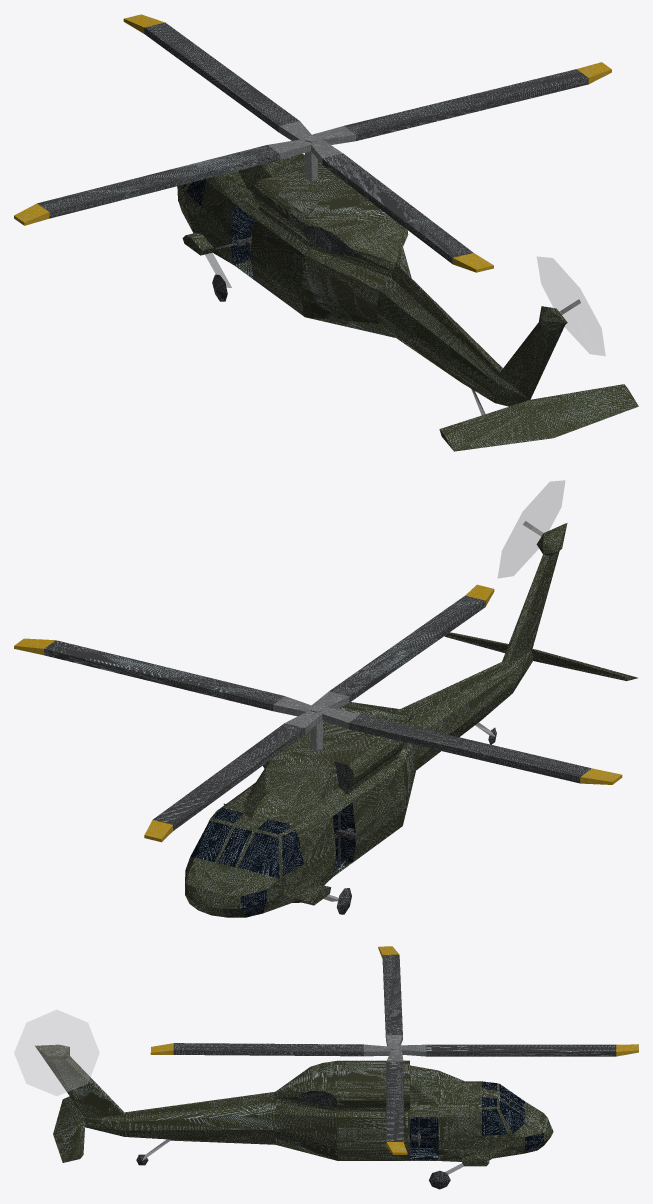
The model's file is RT_5BigChopper.dae.
3 renders of one model, top to bottom at view 1: azimuth 30°, elevation 25°; view 2: azimuth 150°, elevation 25°; view 3: azimuth 270°, elevation 25°, orthographic. The views are drawn at different scales.
Visible parts, largest first — view 1: UH60_01_1 (×9); view 2: UH60_01_1 (×12); view 3: UH60_01_1 (×12).
Boxes of the visible parts, bbox=[...] form: UH60_01_1 (×9): bbox=[37, 22, 638, 451]; UH60_01_1 (×12): bbox=[44, 480, 637, 917]; UH60_01_1 (×12): bbox=[14, 954, 616, 1166].
Bounding box in the file's own units: 14.3 × 18.31 × 5.18.
